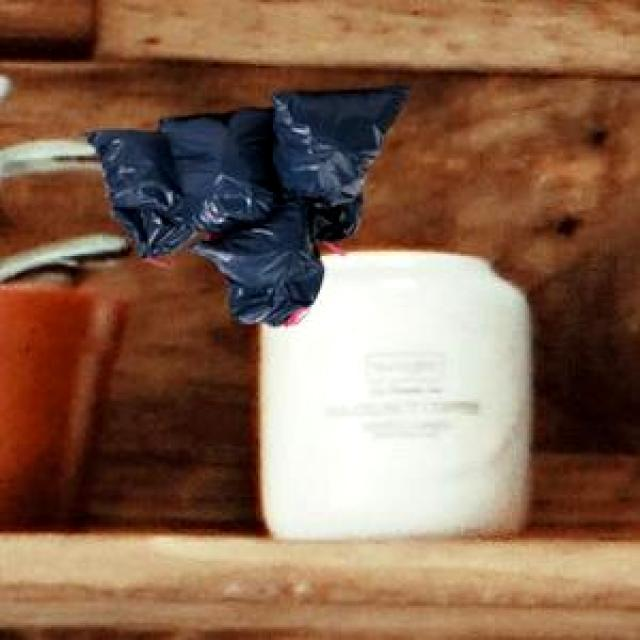Garbage_Bag: (78, 84, 408, 323)
